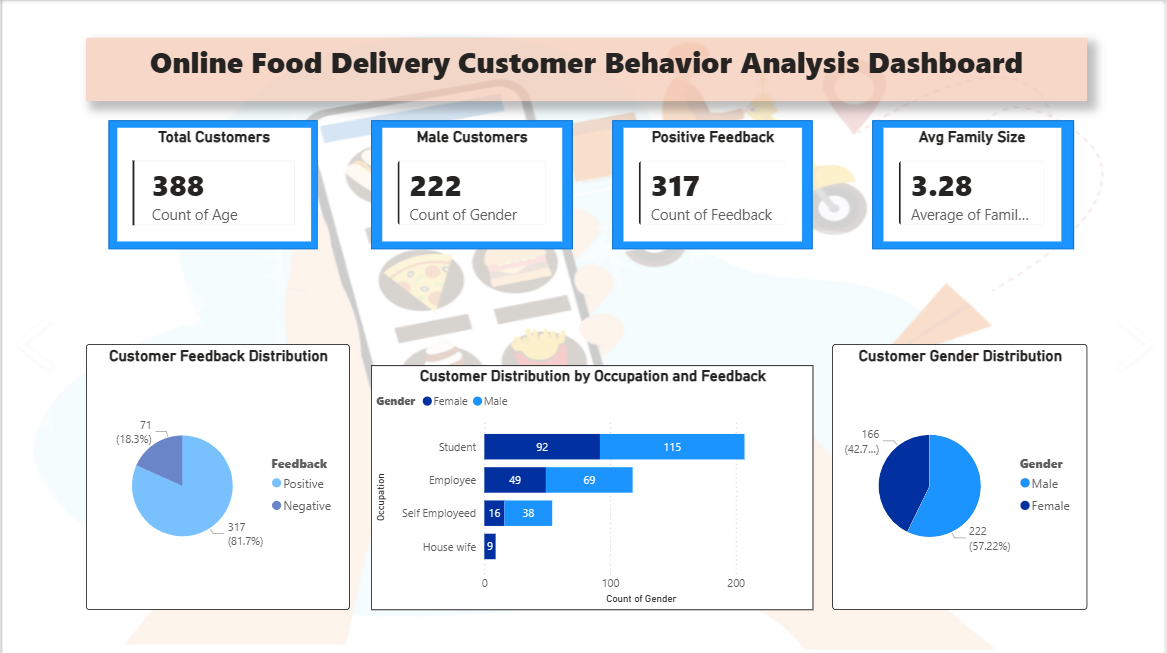

The dashboard page shown, as its layout file describes it:
{"tool":"powerbi","page":{"name":"Page 1","canvas":[1280,720],"ordinal":0},"visuals":[{"type":"pieChart","title":"Customer Gender Distribution","fields":{"Category":["onlinefoods.Gender"],"Y":["CountNonNull(onlinefoods.Gender)"]},"box":[912.5,378.7,279.9,292.3],"z":0},{"type":"pieChart","title":"Customer Feedback Distribution","fields":{"Category":["onlinefoods.Feedback"],"Y":["CountNonNull(onlinefoods.Feedback)"]},"box":[93.3,378.7,289.5,292.3],"z":1000},{"type":"textbox","box":[93.3,42.5,1099.1,70],"z":2000},{"type":"shape","box":[118.6,133.3,229.9,141.8],"z":3000},{"type":"shape","box":[406,133.3,221.3,141.8],"z":4000},{"type":"shape","box":[956.3,133.3,221.3,141.8],"z":5000},{"type":"shape","box":[671.3,133.3,220.1,141.8],"z":6000},{"type":"barChart","title":"Customer Distribution by Occupation and Feedback","fields":{"Category":["onlinefoods.Occupation"],"Y":["CountNonNull(onlinefoods.Gender)"],"Series":["onlinefoods.Gender"]},"box":[406.2,402.1,485.8,269],"z":7000},{"type":"cardVisual","title":"Total Customers","fields":{"Data":["CountNonNull(onlinefoods.Age)"]},"box":[127.2,141.8,212.8,124.7],"z":8000},{"type":"cardVisual","title":"Male Customers","fields":{"Data":["CountNonNull(onlinefoods.Gender)"]},"box":[418.5,141.3,197.6,124.9],"z":9000},{"type":"cardVisual","title":"Positive Feedback","fields":{"Data":["CountNonNull(onlinefoods.Feedback)"]},"box":[683.4,141.3,196.2,124.9],"z":10000},{"type":"cardVisual","title":"Avg Family Size","fields":{"Data":["Avg(onlinefoods.Family size)"]},"box":[968.8,141.3,194.9,124.9],"z":10001}]}

Visuals, with their boxes in screenshot pixels (x1, y1, x2, y2), scaled from the page's 1280x720 canvas onto the 1167x653 screenshot:
"Customer Gender Distribution" pieChart: 832, 343, 1087, 609
"Customer Feedback Distribution" pieChart: 85, 343, 349, 609
textbox: 85, 39, 1087, 102
shape: 108, 121, 318, 250
shape: 370, 121, 572, 250
shape: 872, 121, 1074, 250
shape: 612, 121, 813, 250
"Customer Distribution by Occupation and Feedback" barChart: 370, 365, 813, 609
"Total Customers" cardVisual: 116, 129, 310, 242
"Male Customers" cardVisual: 382, 128, 562, 241
"Positive Feedback" cardVisual: 623, 128, 802, 241
"Avg Family Size" cardVisual: 883, 128, 1061, 241
